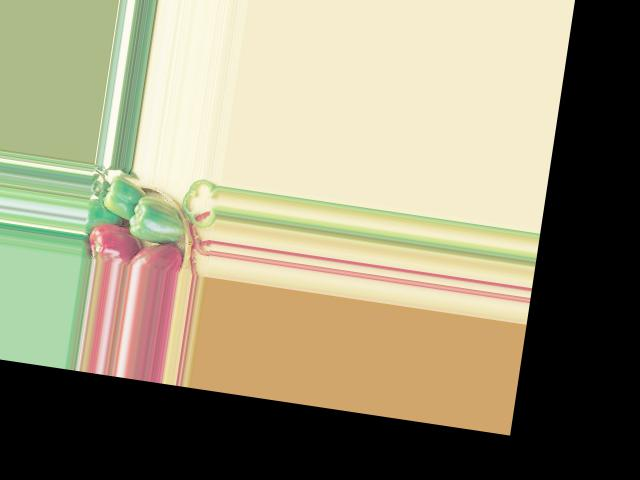bell_pepper: (128, 241, 184, 272)
